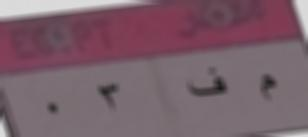0: (42, 95, 65, 123)
3: (95, 79, 124, 116)
faa: (184, 62, 233, 102)
meem: (250, 70, 280, 110)
